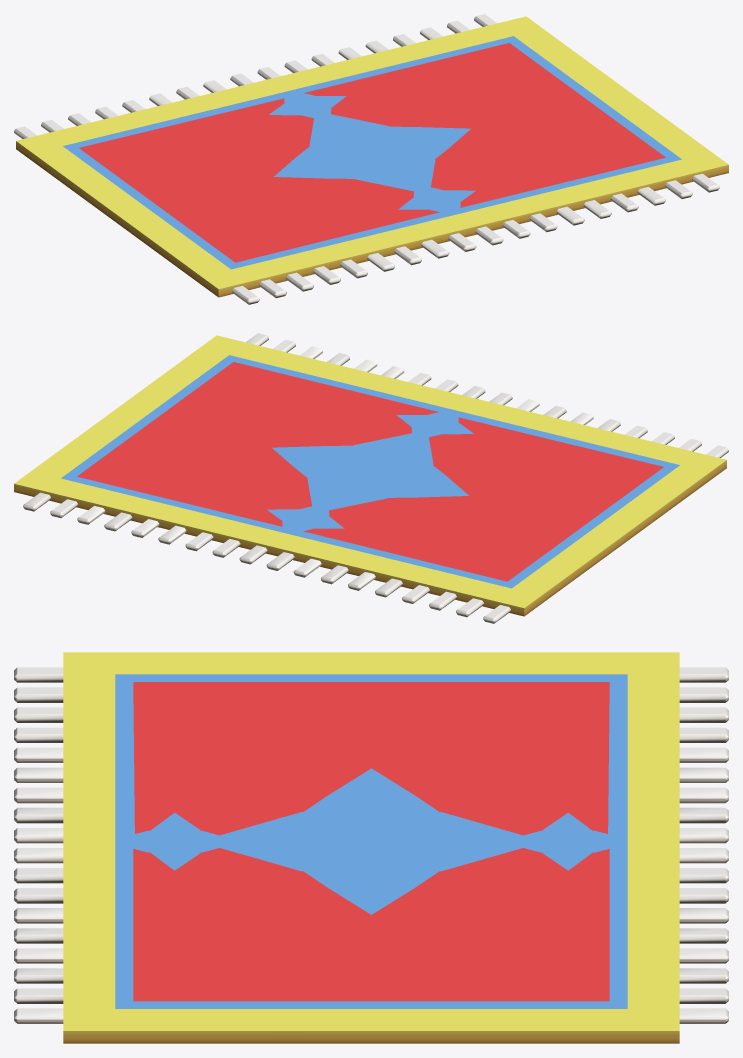
File: rug_red.glb
3 renders of one model, top to bottom at view 1: azimuth 30°, elevation 25°; view 2: azimuth 150°, elevation 25°; view 3: azimuth 270°, elevation 25°, orthographic. The views are drawn at different scales.
Parts seen in each view (by area): view 1: Item; view 2: Item; view 3: Item.
Boxes of the visible parts, x1,y1,x2,y2 form: Item: [14, 14, 728, 304]; Item: [14, 333, 728, 623]; Item: [14, 652, 728, 1043].
Bounding box in the file's own units: 3.21 × 0.05 × 2.56.
1 material, 1 textured.
